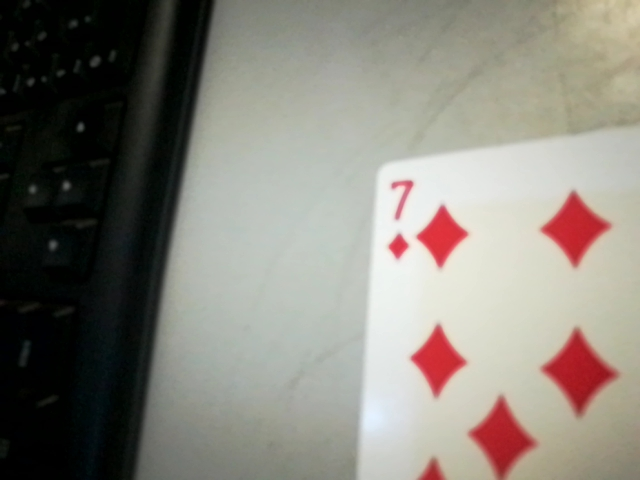fk 7: (373, 168, 423, 265)
